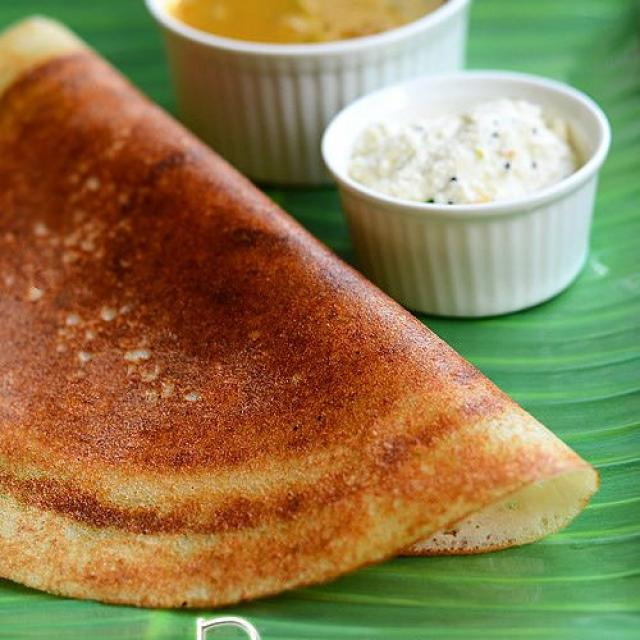chutney: (312, 70, 606, 216)
dosa: (0, 19, 613, 575)
